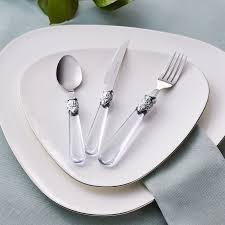Knife: (84, 37, 129, 154)
